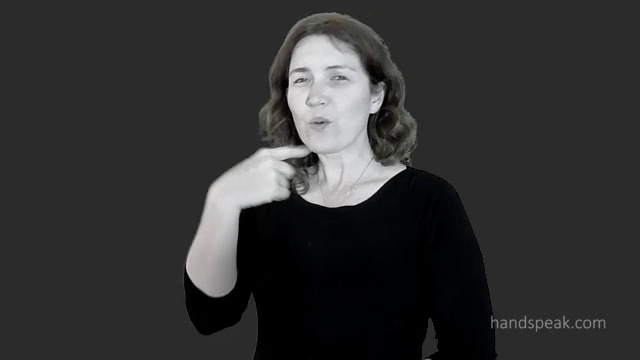who: (208, 114, 361, 230)
